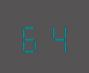four: (44, 20, 68, 53)
six: (19, 20, 43, 53)
